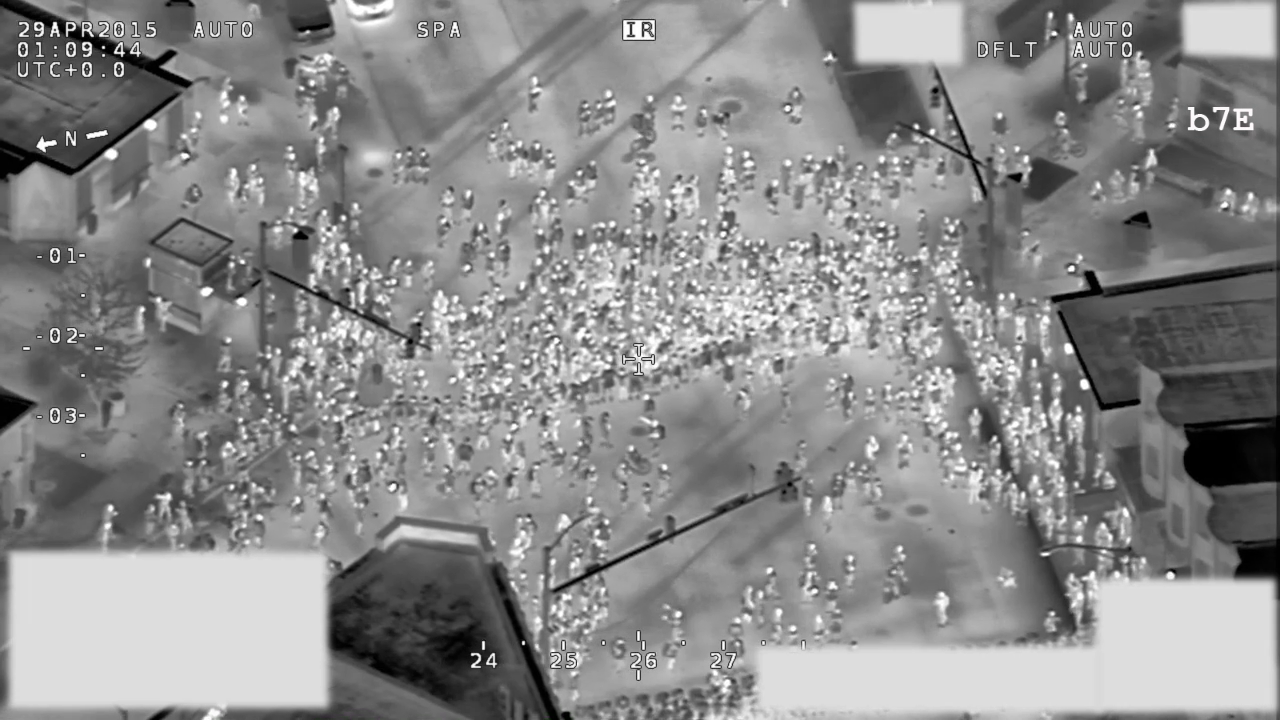vehicle: (285, 1, 343, 44), (344, 1, 398, 24)
